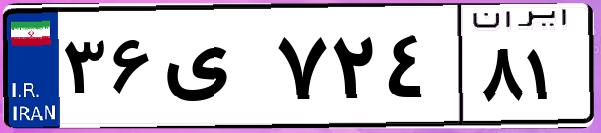1: (525, 38, 570, 115)
2: (330, 28, 385, 110)
3: (57, 26, 110, 100)
4: (385, 28, 445, 110)
6: (110, 28, 158, 98)
7: (270, 28, 330, 110)
8: (475, 38, 525, 113)
ی: (158, 20, 270, 120)
